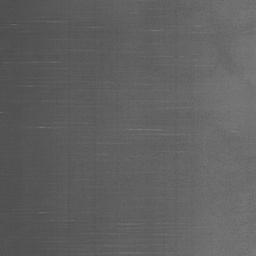Waist folding: (127, 127, 180, 137), (0, 19, 60, 27), (0, 59, 59, 65), (156, 55, 213, 60), (120, 251, 172, 256), (118, 221, 166, 226), (29, 125, 53, 130), (166, 105, 185, 111), (101, 155, 136, 158)
